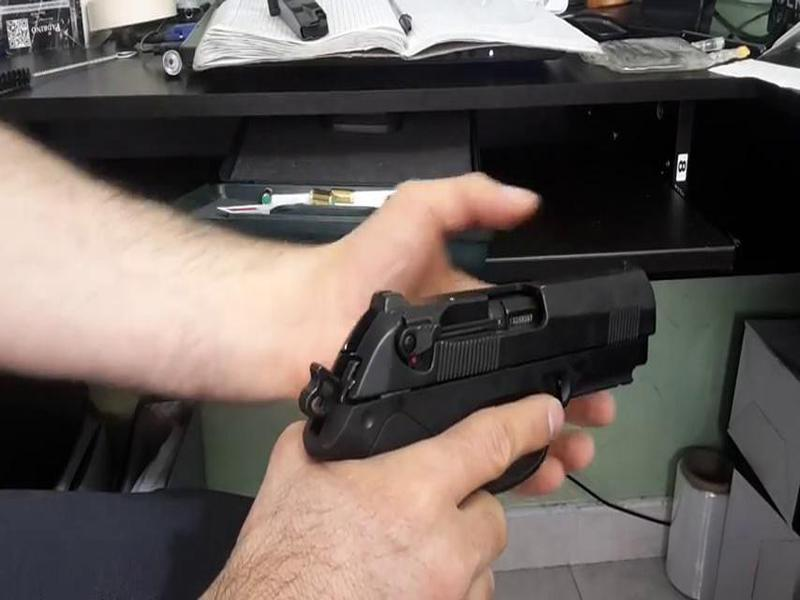Pistola: (277, 243, 674, 511)
